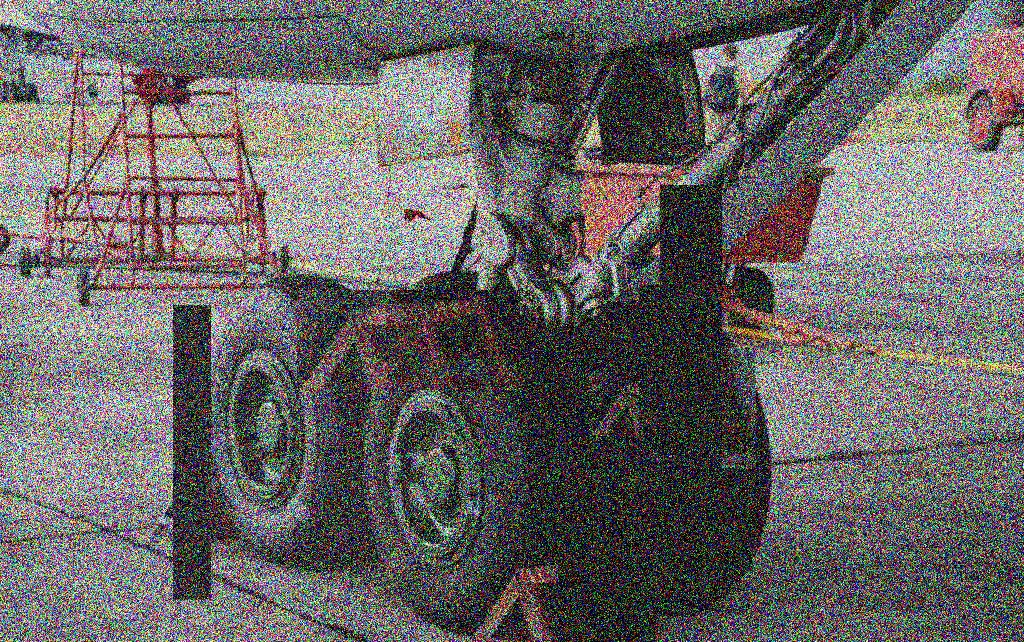chock: (297, 290, 520, 390), (470, 553, 663, 640), (651, 347, 756, 468), (589, 371, 735, 436), (149, 453, 238, 555)
wheel: (358, 305, 600, 633), (566, 300, 773, 609), (207, 273, 378, 568), (381, 271, 484, 336)
